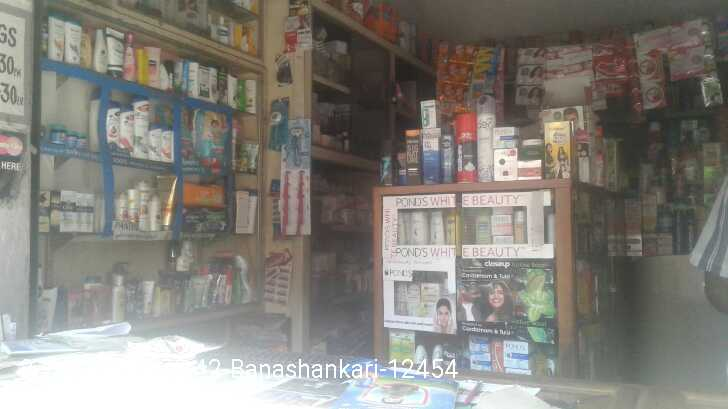beauty: (132, 96, 148, 160), (122, 184, 140, 230), (137, 181, 153, 229), (118, 105, 133, 156), (106, 100, 119, 152), (147, 123, 163, 160), (77, 192, 92, 231), (161, 123, 174, 161), (63, 192, 75, 233), (152, 194, 161, 228)
pharmacy: (190, 109, 237, 160), (179, 205, 229, 231), (179, 182, 227, 209), (48, 123, 66, 146), (77, 130, 91, 155), (67, 132, 76, 151)
